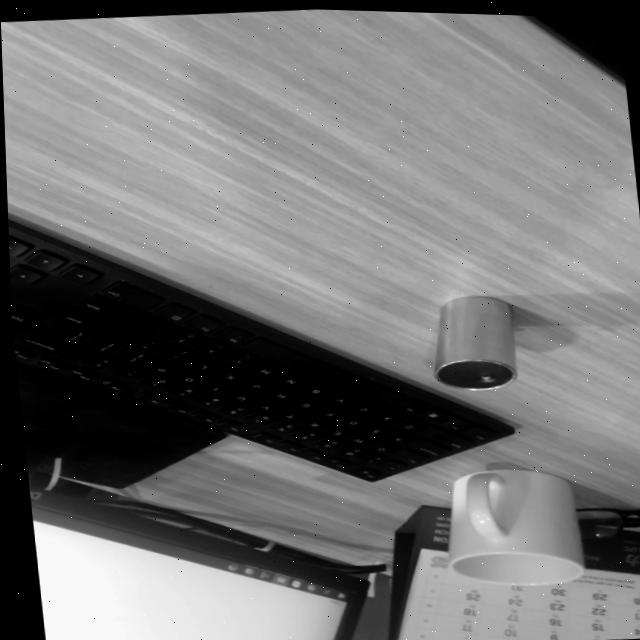Co_Lon: (434, 295, 518, 391)
